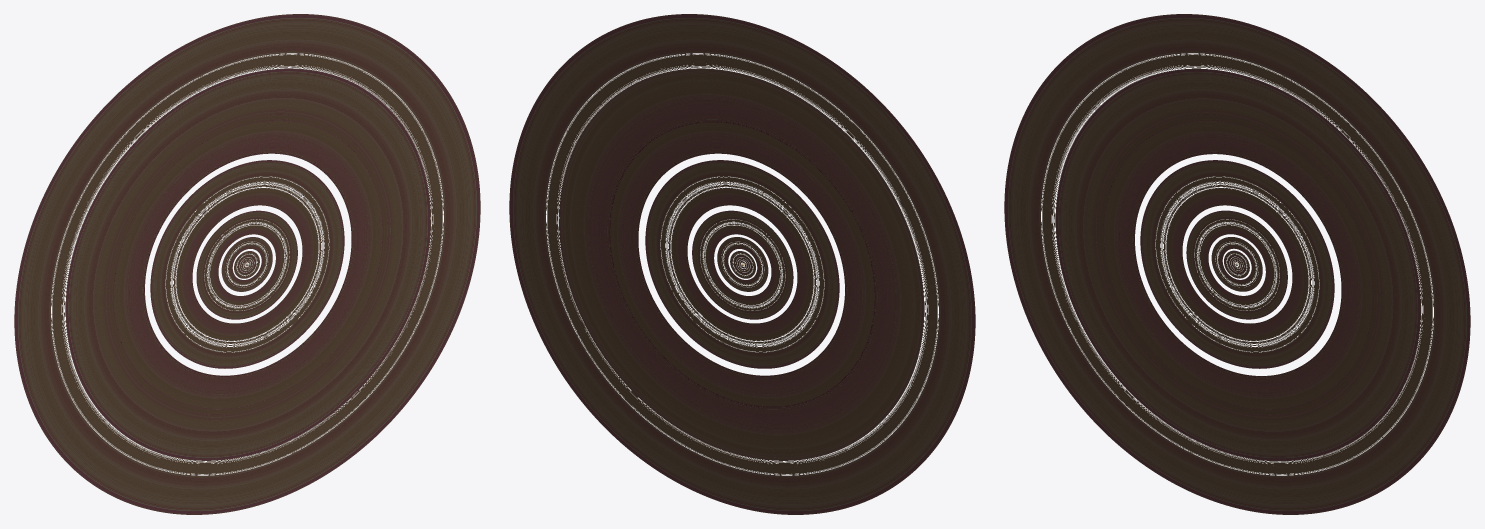
3 views of the same model, side by side, from view 1: azimuth 30°, elevation 25°; view 2: azimuth 150°, elevation 25°; view 3: azimuth 330°, elevation 25° (orthographic).
Visible parts, largest first — view 1: node_id188_11, node_id162_10, node_id142_9, node_id134_7, node_id136_8; view 2: node_id188_11, node_id162_10, node_id142_9, node_id134_7, node_id136_8; view 3: node_id188_11, node_id162_10, node_id142_9, node_id134_7, node_id136_8.
Part boxes in pixels (x1,y1,x2,y2): node_id188_11: (14,14,480,514); node_id162_10: (65,68,430,460); node_id142_9: (150,160,344,368); node_id134_7: (196,210,297,319); node_id136_8: (221,237,272,291); node_id188_11: (509,14,975,514); node_id162_10: (559,68,924,460); node_id142_9: (645,160,839,368); node_id134_7: (692,210,793,319); node_id136_8: (717,237,768,291); node_id188_11: (1004,14,1470,514); node_id162_10: (1055,69,1420,461); node_id142_9: (1140,160,1334,368); node_id134_7: (1186,210,1287,319); node_id136_8: (1211,237,1262,291).
Size of the model in its own units: 7.48 by 7.48 by 0.0447.
7 materials, 7 textured.
